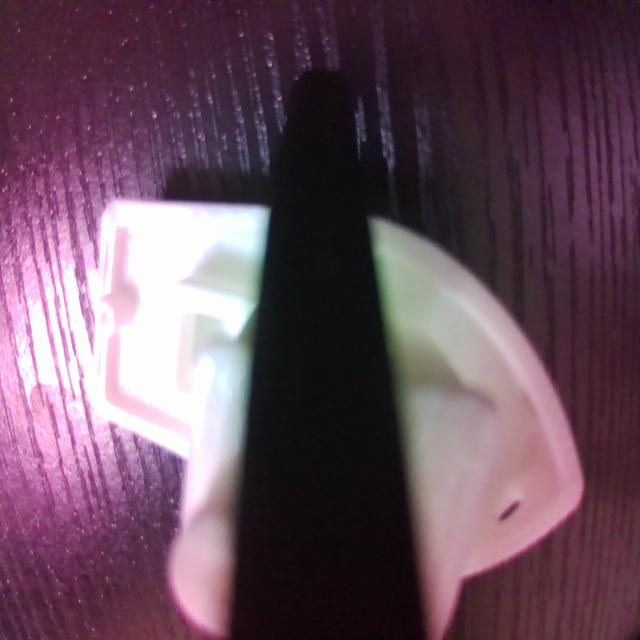ship: (93, 198, 583, 640)
